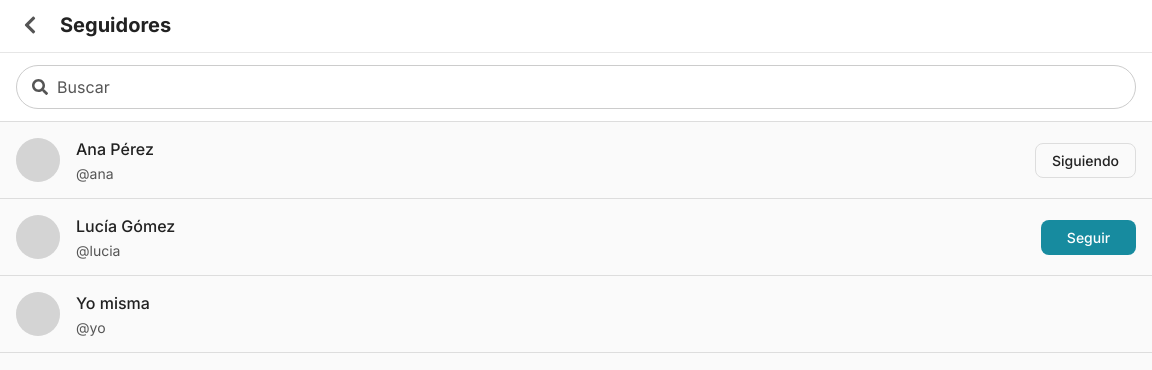
Scenario: FollowListPage › filters with the same search field as Search and clears it
The width and height of the screenshot is (1152, 370).
Check: the text "Ana Pérez" is shown, box x1=76 y1=139 x2=154 y2=159
Type "luc" into the search field named "Buscar en seguidores..." at (576, 87), box x1=16 y1=65 x2=1136 y2=109
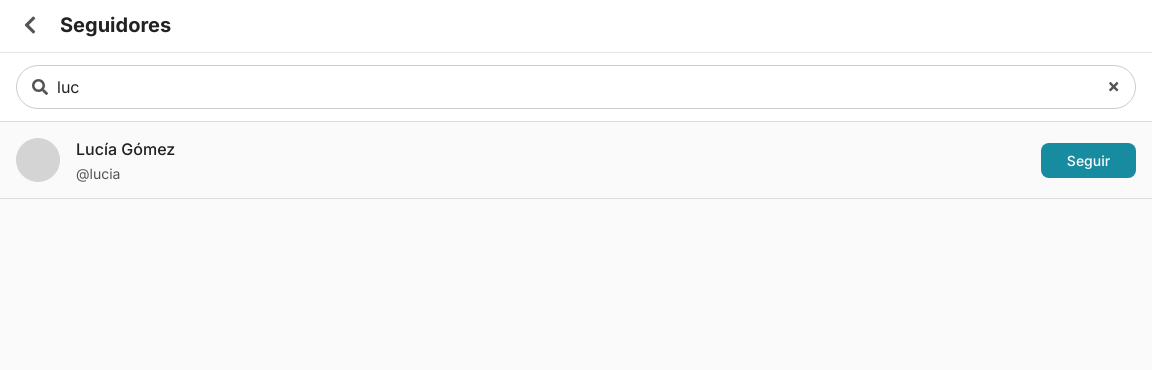
Check: the text "Lucía Gómez" is shown, box x1=76 y1=139 x2=175 y2=159
Check: the text "Ana Pérez" is gone
Click the button named "Borrar búsqueda" at (1114, 87), box x1=1092 y1=65 x2=1136 y2=109
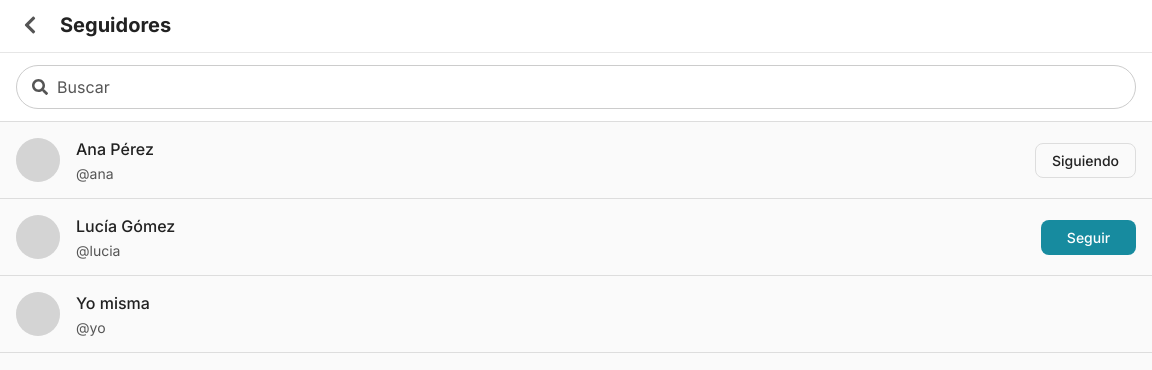
Check: the text "Ana Pérez" is shown, box x1=76 y1=139 x2=154 y2=159
